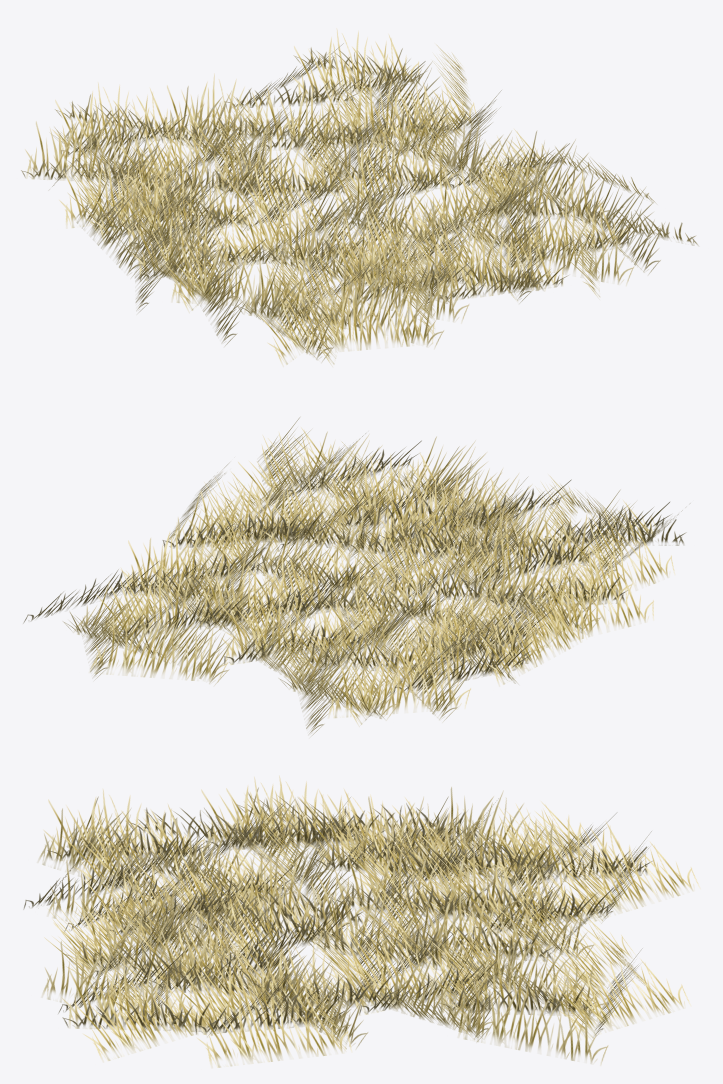
File: grass-13.glb
3 views of the same model, one above another, from view 1: azimuth 30°, elevation 25°; view 2: azimuth 150°, elevation 25°; view 3: azimuth 270°, elevation 25° (orthographic). The views are drawn at different scales.
Visible parts, largest first — view 1: Plane021; view 2: Plane021; view 3: Plane021.
Part boxes in pixels (box(x1,y1,x2,y2)): Plane021: box(21, 30, 698, 364); Plane021: box(23, 417, 690, 735); Plane021: box(23, 776, 699, 1067).
Size of the model in its own units: 36.78 by 3.49 by 42.15.
Materials: 1 (1 with a texture image).
